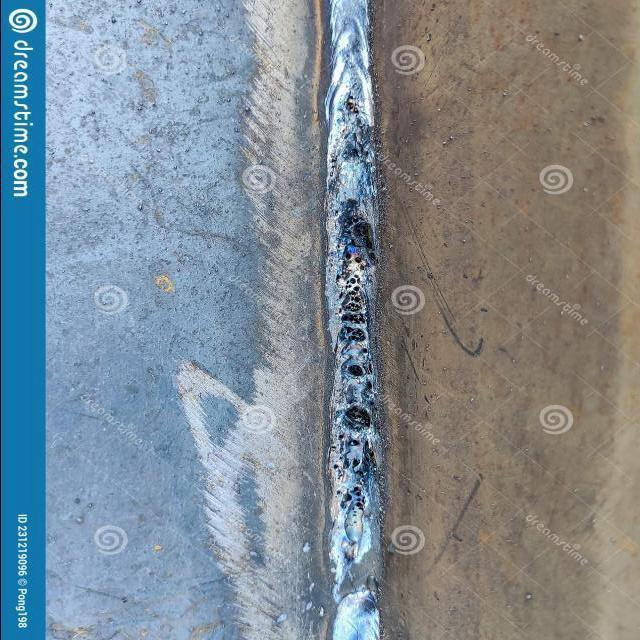defect: (331, 211, 382, 392), (328, 432, 380, 529), (340, 402, 372, 433), (339, 93, 365, 117)
